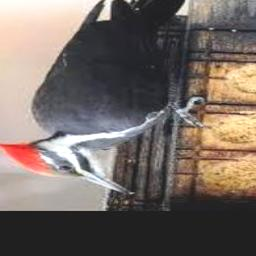Woodpecker: (0, 0, 207, 195)
